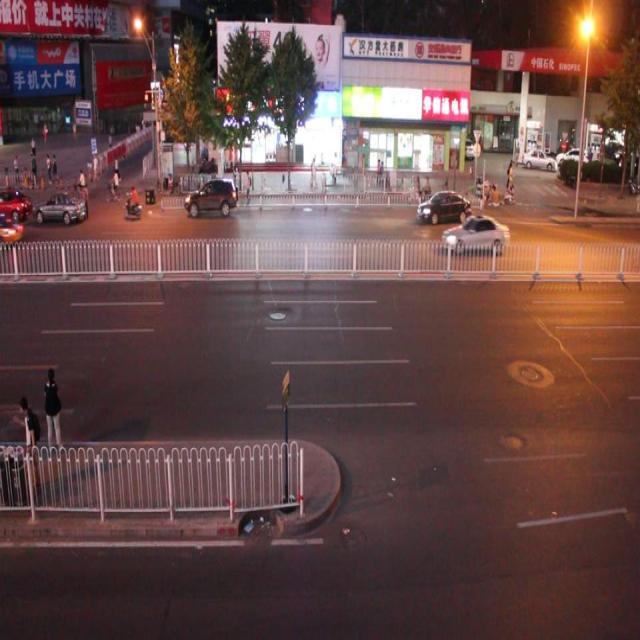car: (441, 212, 509, 259), (182, 172, 236, 214), (30, 187, 86, 224), (417, 186, 470, 224), (1, 211, 23, 250)
